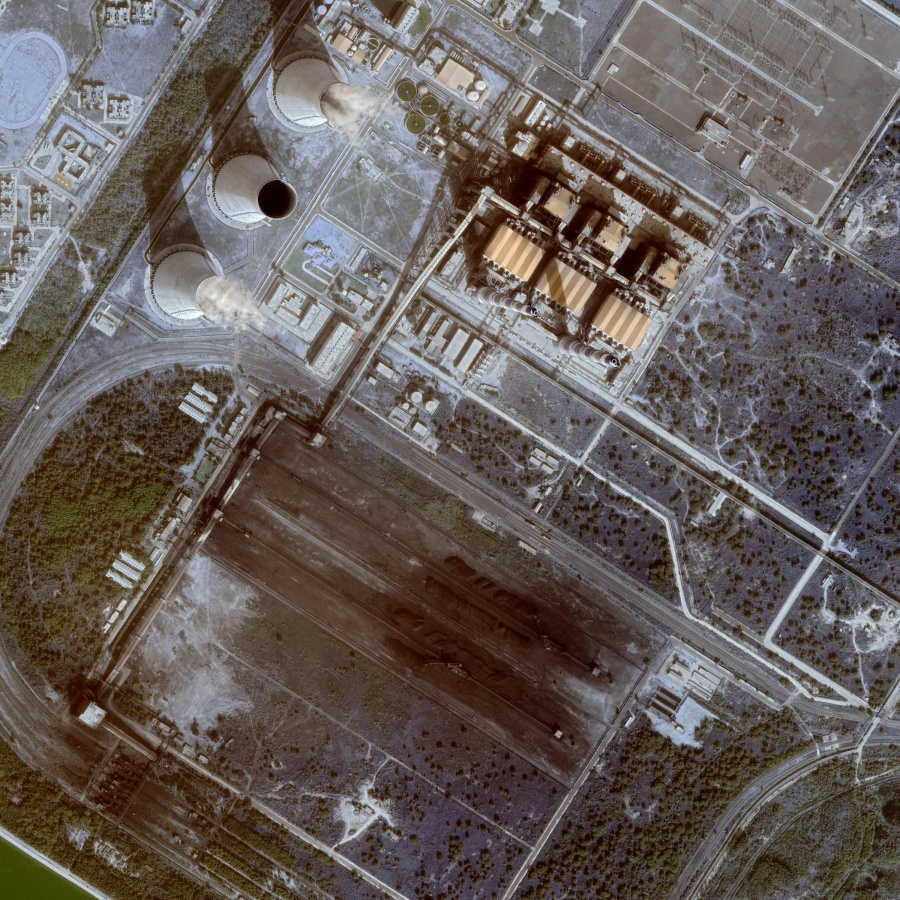PowerPlant: (185, 403, 659, 781)
